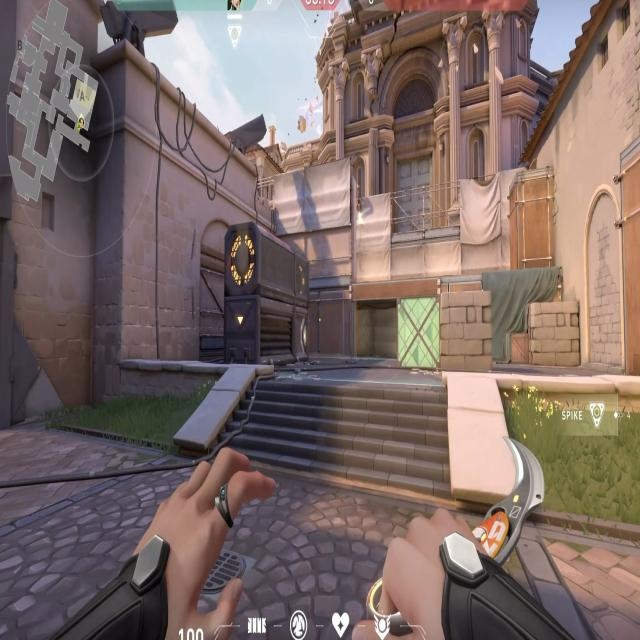A_Heaven_Box: (505, 160, 560, 271)
A_Heaven_Wall: (287, 150, 362, 284)
A_Hell: (343, 268, 401, 364)
A_Site_Box: (394, 286, 492, 374)
